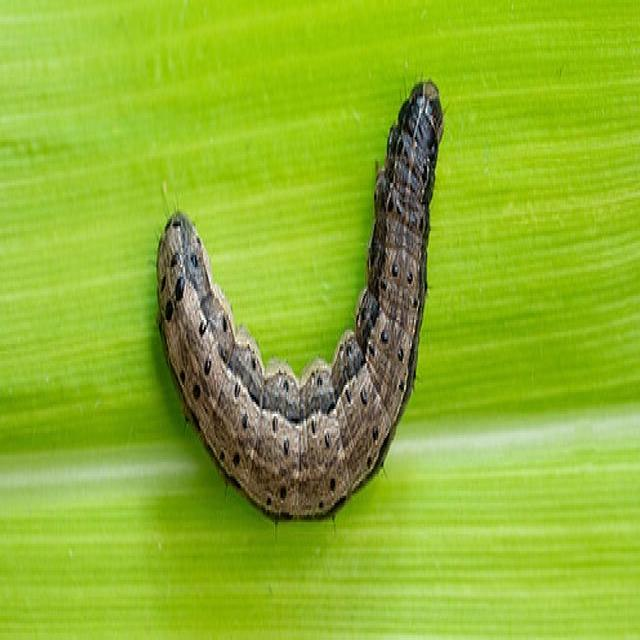armyworm: (155, 75, 445, 522)
